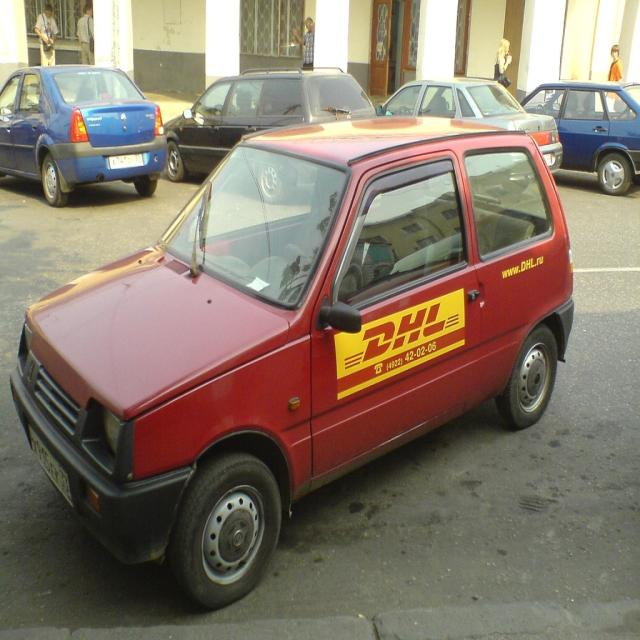dhl: (338, 300, 465, 375)
